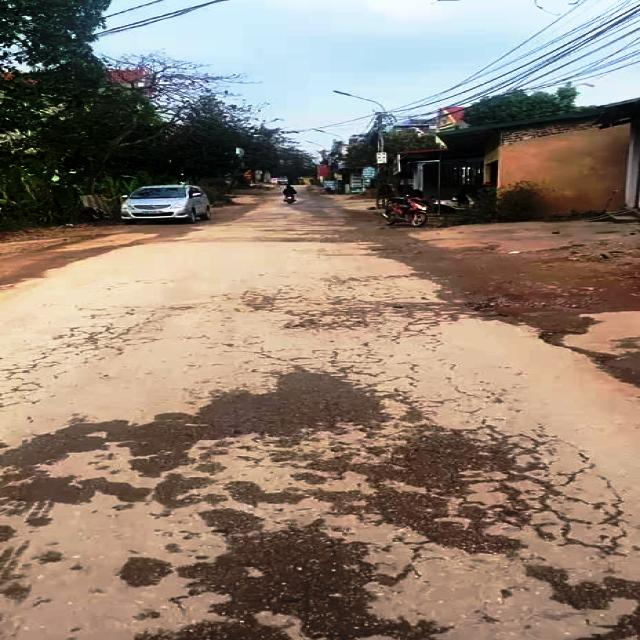pothole: (193, 524, 448, 640), (386, 423, 506, 523), (536, 327, 640, 373), (462, 292, 559, 316)
